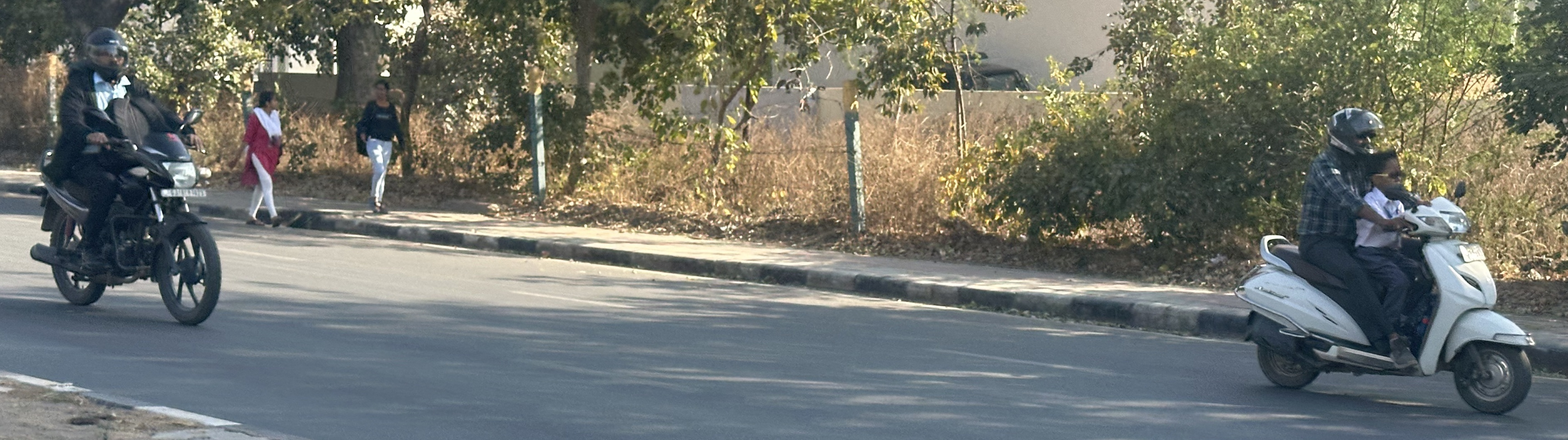BikeWithRider: (1218, 93, 1539, 427), (20, 20, 229, 333)
Helmet: (1319, 102, 1386, 171), (74, 23, 136, 86)
NoHelmet: (1361, 146, 1408, 199)
